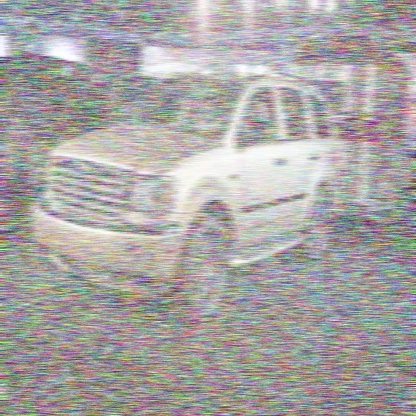Vehicle: (31, 66, 340, 329)
